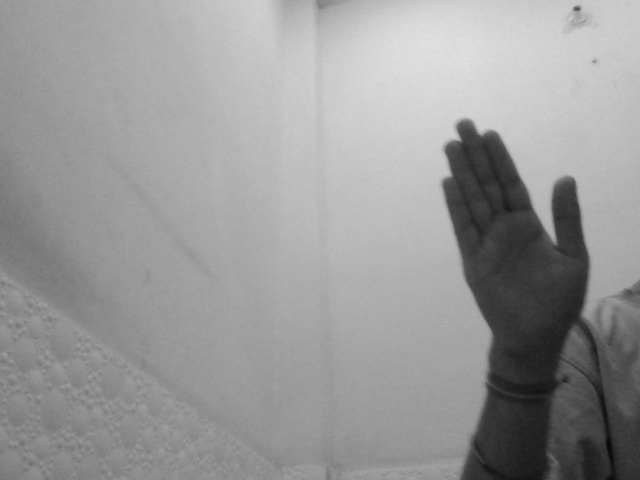Hello: (431, 114, 596, 358)
